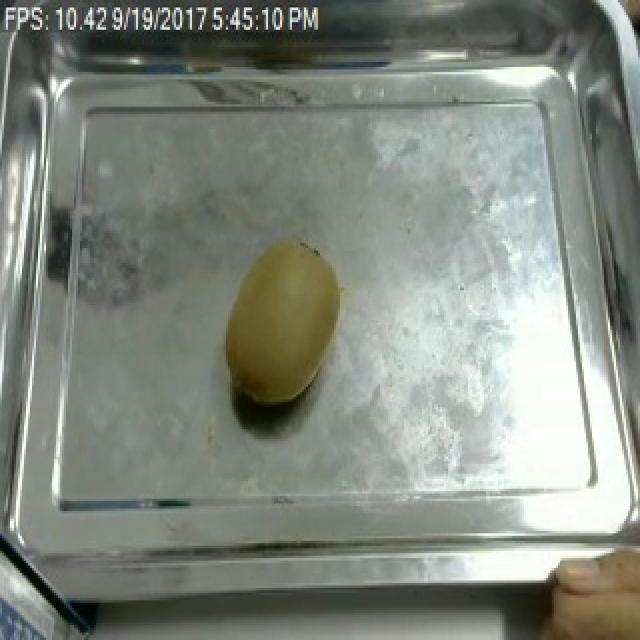Fruit: (220, 233, 348, 414), (532, 533, 640, 640)
